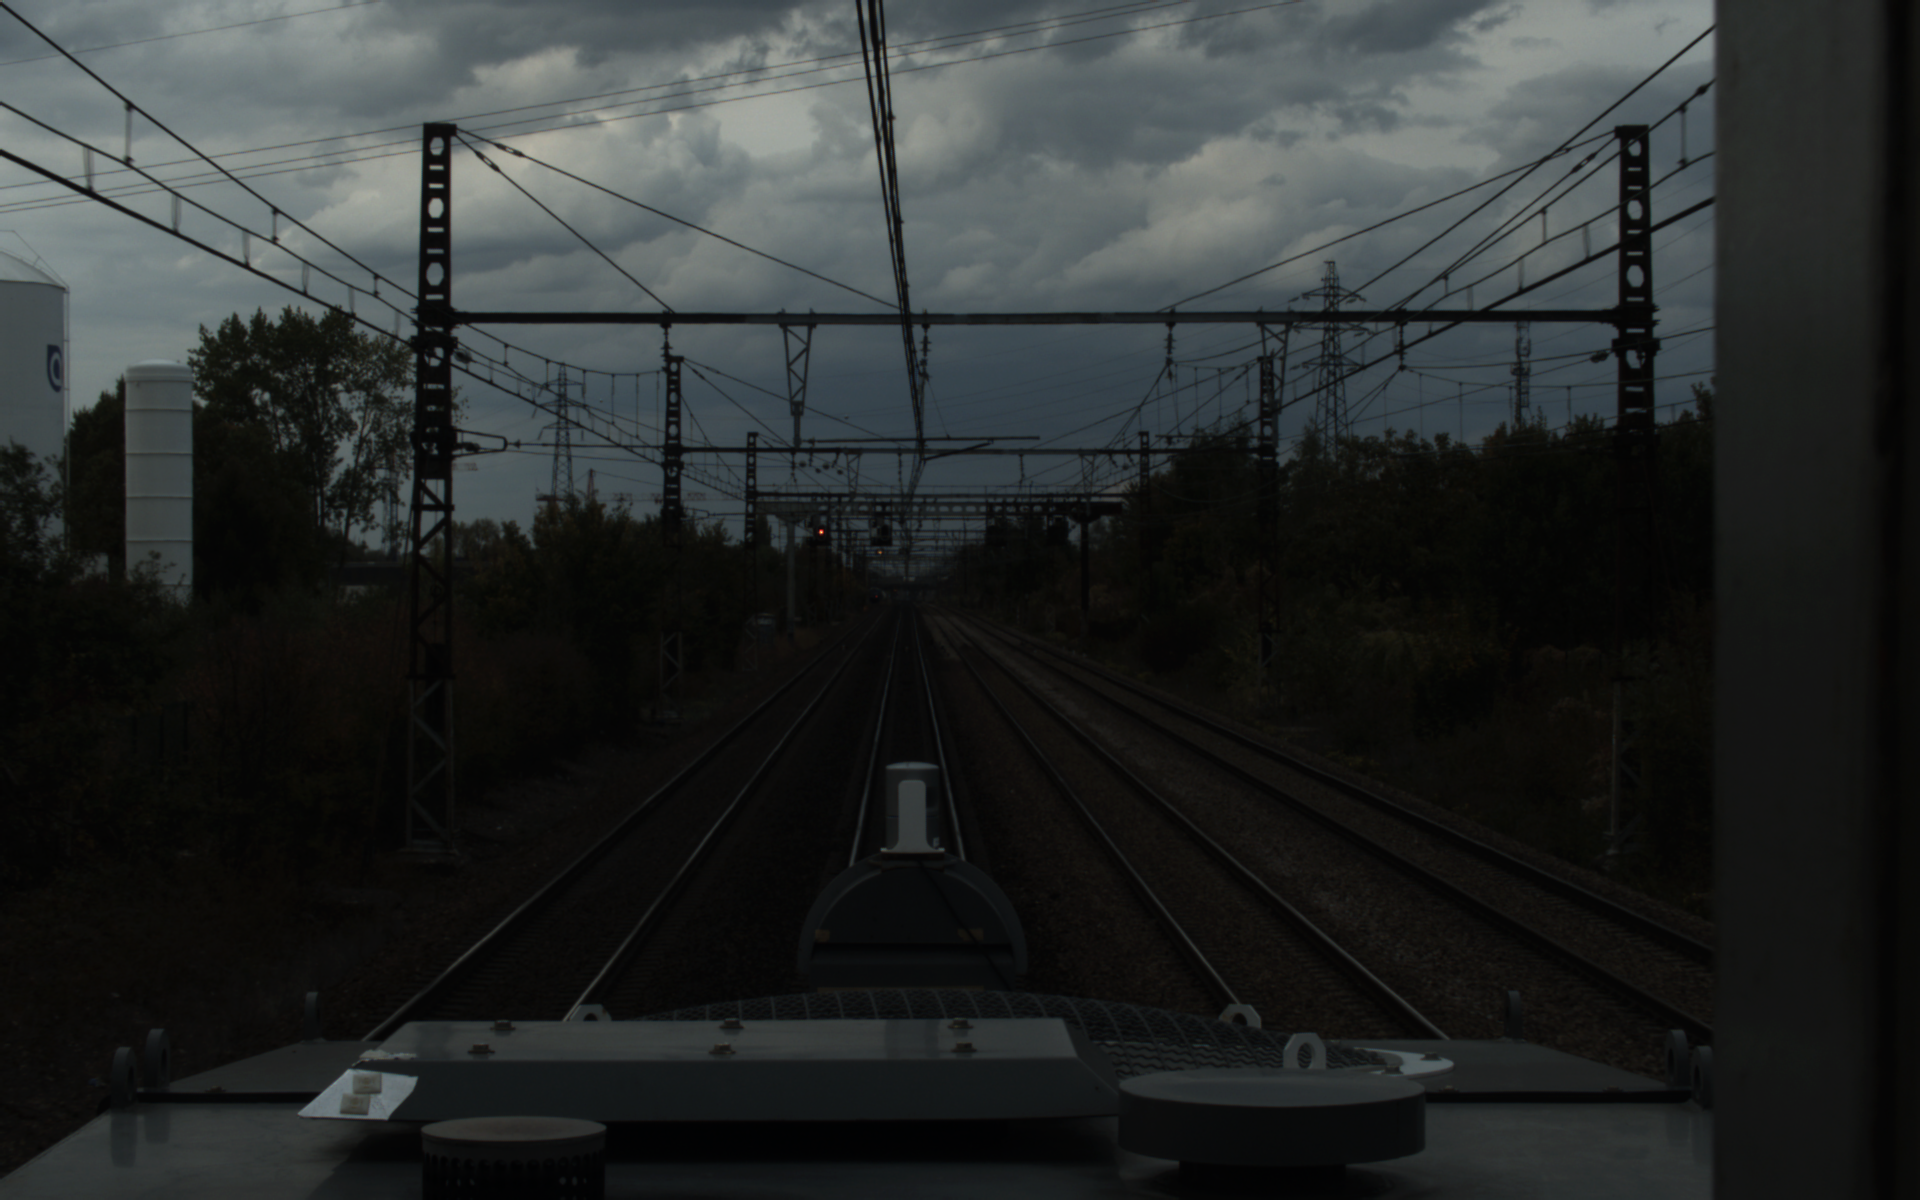Blinking: (878, 523, 892, 542)
Fixed: (814, 521, 828, 542)
